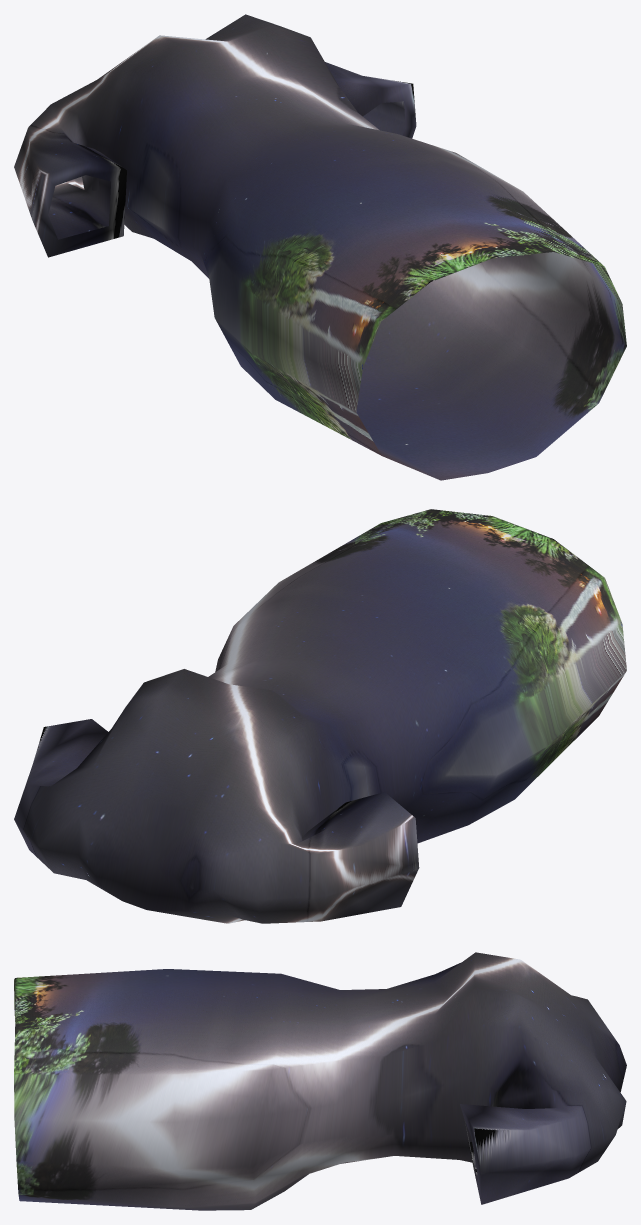
The model's file is dress1a.glb.
3 renders of one model, top to bottom at view 1: azimuth 30°, elevation 25°; view 2: azimuth 150°, elevation 25°; view 3: azimuth 270°, elevation 25°, orthographic. The views are drawn at different scales.
Parts seen in each view (by area): view 1: dress.003; view 2: dress.003; view 3: dress.003.
Part boxes in pixels (x1,y1,x2,y2): dress.003: [14, 14, 626, 480]; dress.003: [14, 509, 626, 923]; dress.003: [14, 952, 626, 1210].
Size of the model in its own units: 0.9724 by 0.6035 by 1.54.
1 material, 1 textured.
